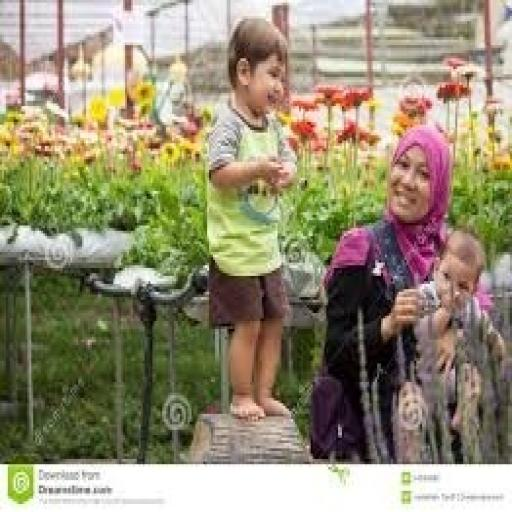clapping: (203, 13, 299, 422)
